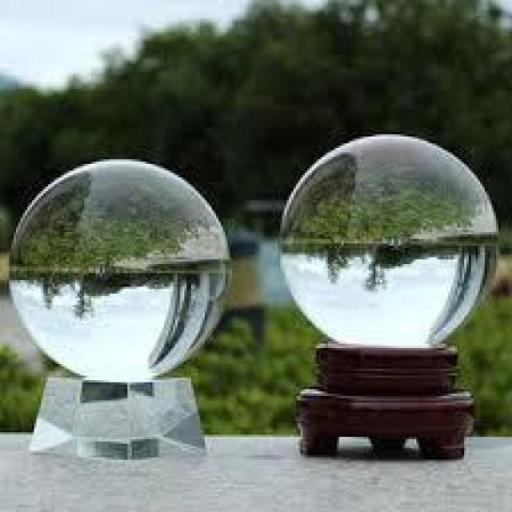glass: (0, 150, 249, 381), (278, 133, 496, 359), (17, 368, 233, 473)
